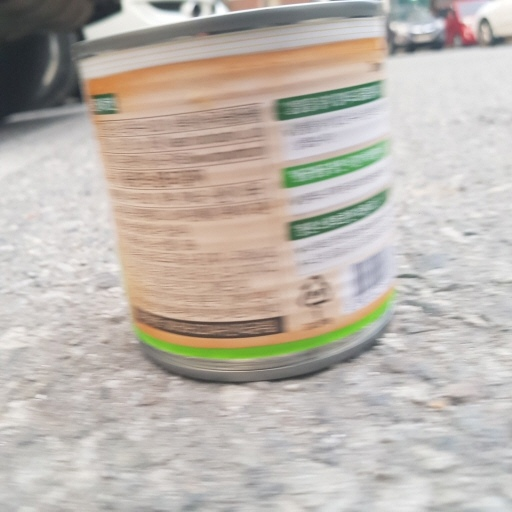Metal_1: (70, 1, 399, 382)
